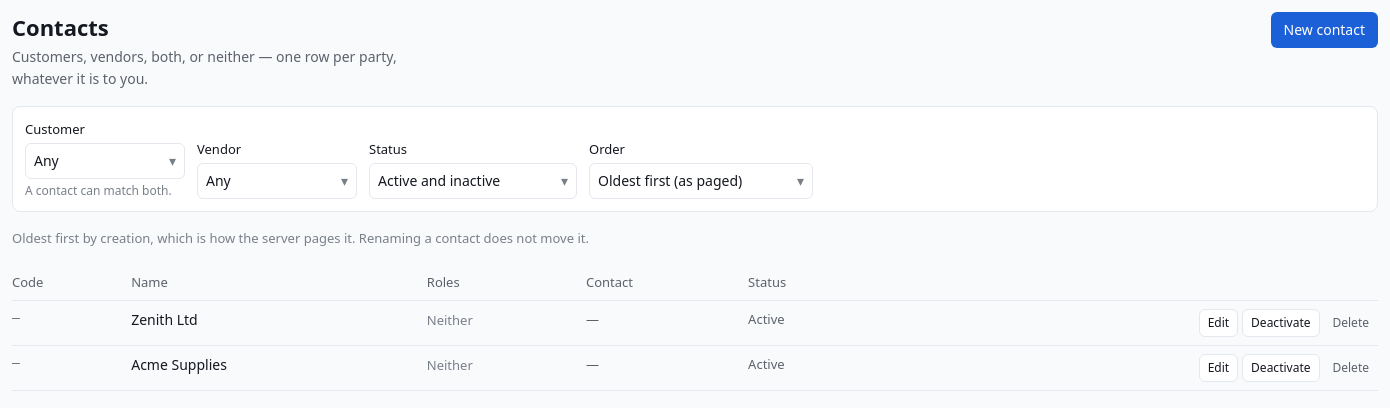
Scenario: ContactsScreen › filters and ordering › sorts by name within the loaded rows and says that is what it did
This screenshot has width=1390, height=408.
Expected: the row "— Zenith Ltd Neither — Active Edit Deactivate Delete" is shown, [12,301,1378,346]
Click the dropdown named "Order": (701, 181) [589,163,813,199]
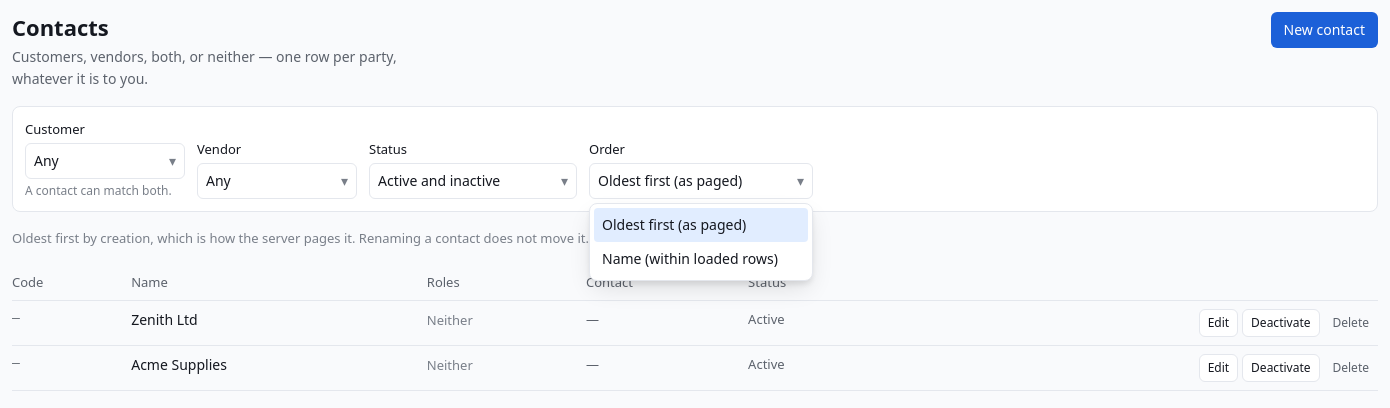
Click the option "Name (within loaded rows)": (690, 258) [602,249,778,268]
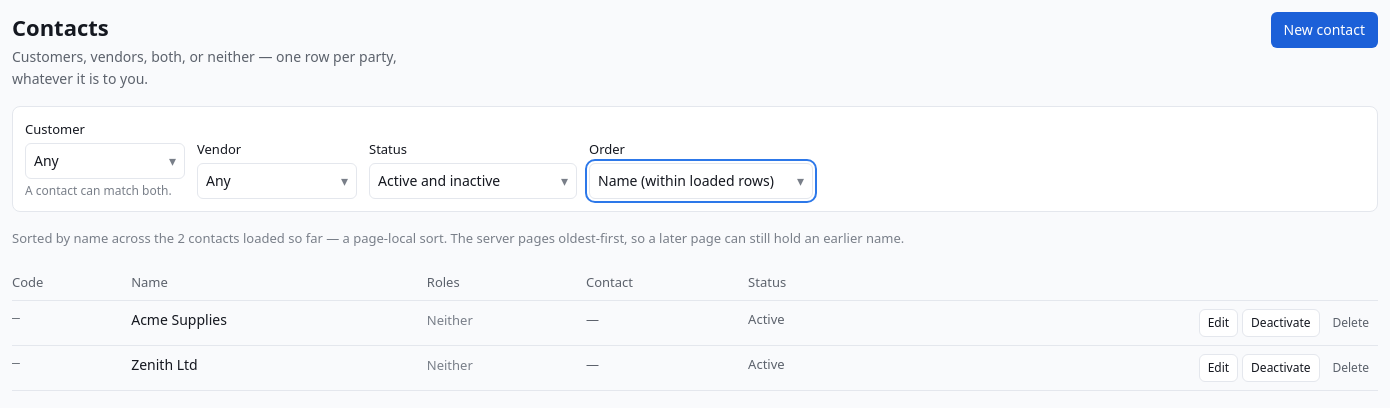
Expected: the row "— Acme Supplies Neither — Active Edit Deactivate Delete" is shown, [12,301,1378,346]
Expected: the text "page-local sort" is shown, [12,229,904,247]
